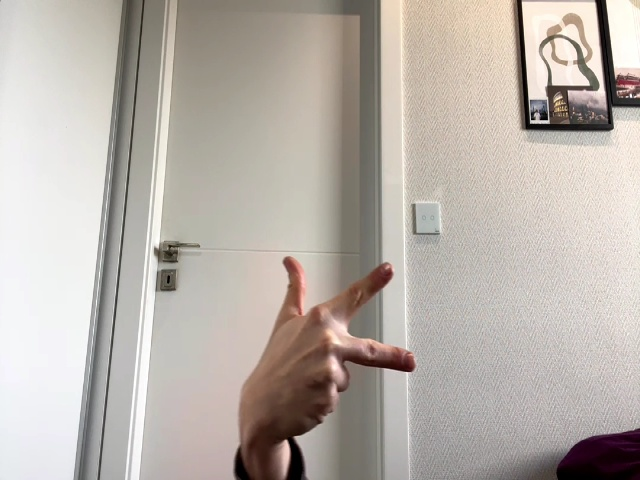K: (241, 256, 413, 433)
